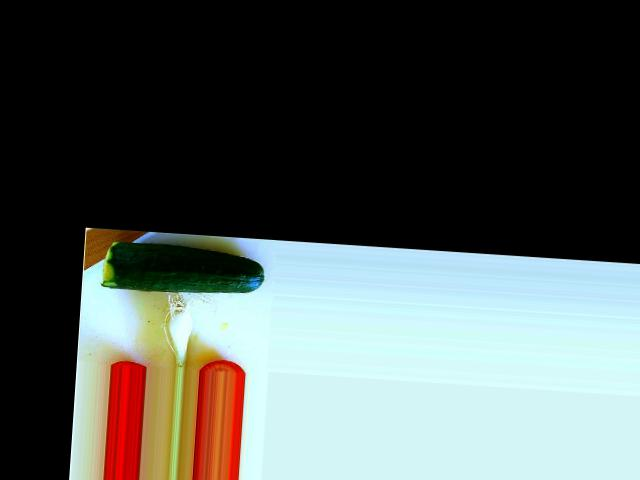cucumber: (101, 239, 267, 297)
